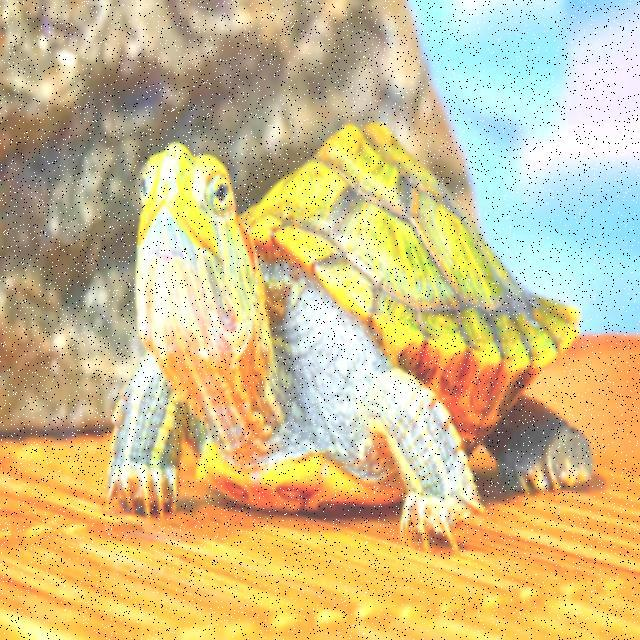tortoise: (100, 120, 600, 558)
